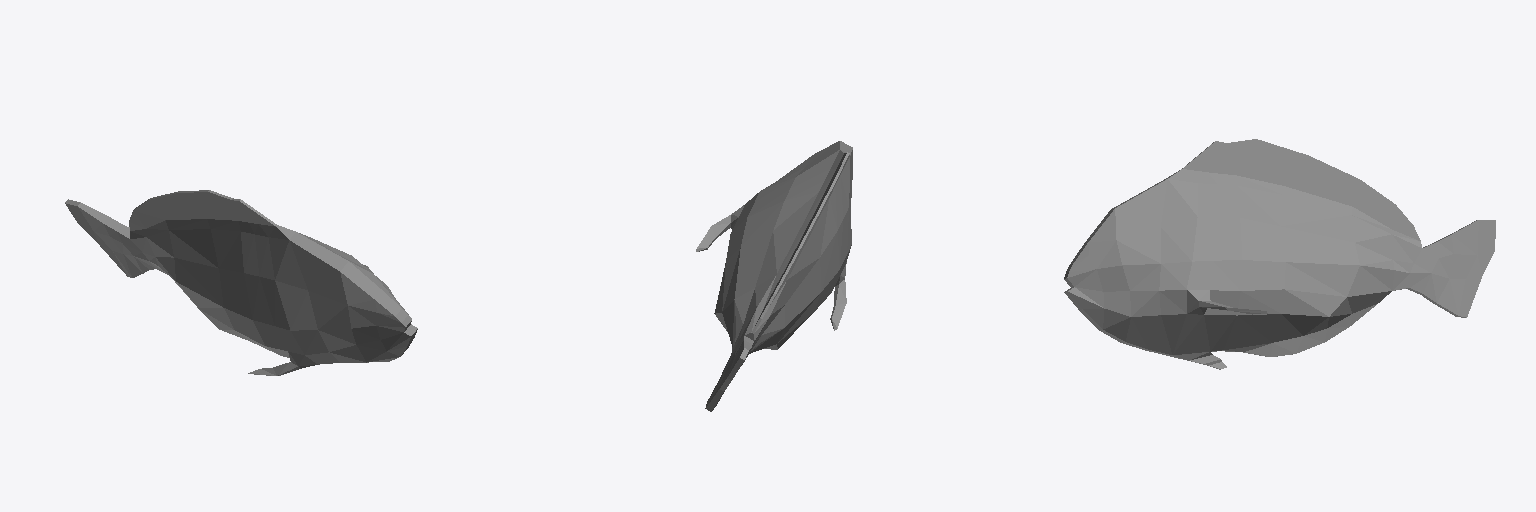
File: fladra.obj
The picture shows the model from 3 angles: view 1: azimuth 30°, elevation 25°; view 2: azimuth 150°, elevation 25°; view 3: azimuth 270°, elevation 25°; orthographic projection.
Visible parts, largest first — view 1: TropicalFish02; view 2: TropicalFish02; view 3: TropicalFish02.
Boxes of the visible parts, <box> form: TropicalFish02: <box>65,190,417,375</box>; TropicalFish02: <box>696,141,852,411</box>; TropicalFish02: <box>1064,139,1495,369</box>.
Bounding box in the file's own units: 2.54 × 2.66 × 5.67.